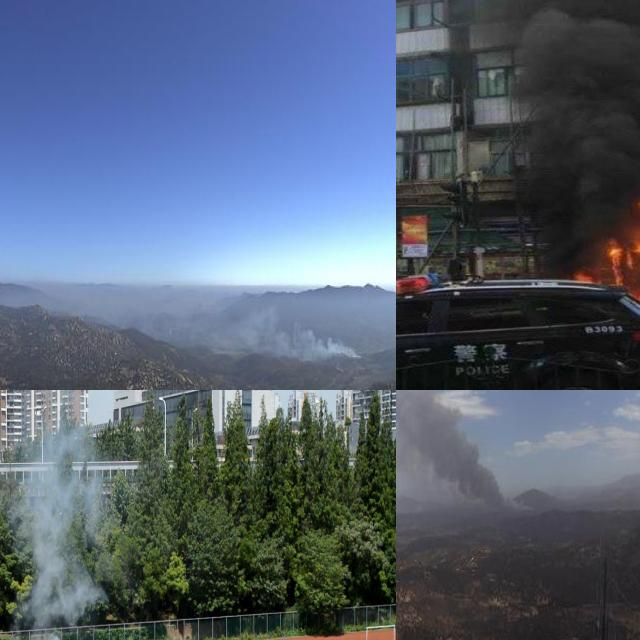fire: (601, 191, 640, 330)
smoke: (514, 0, 640, 240), (10, 390, 105, 640), (396, 390, 514, 523), (201, 302, 356, 362)
